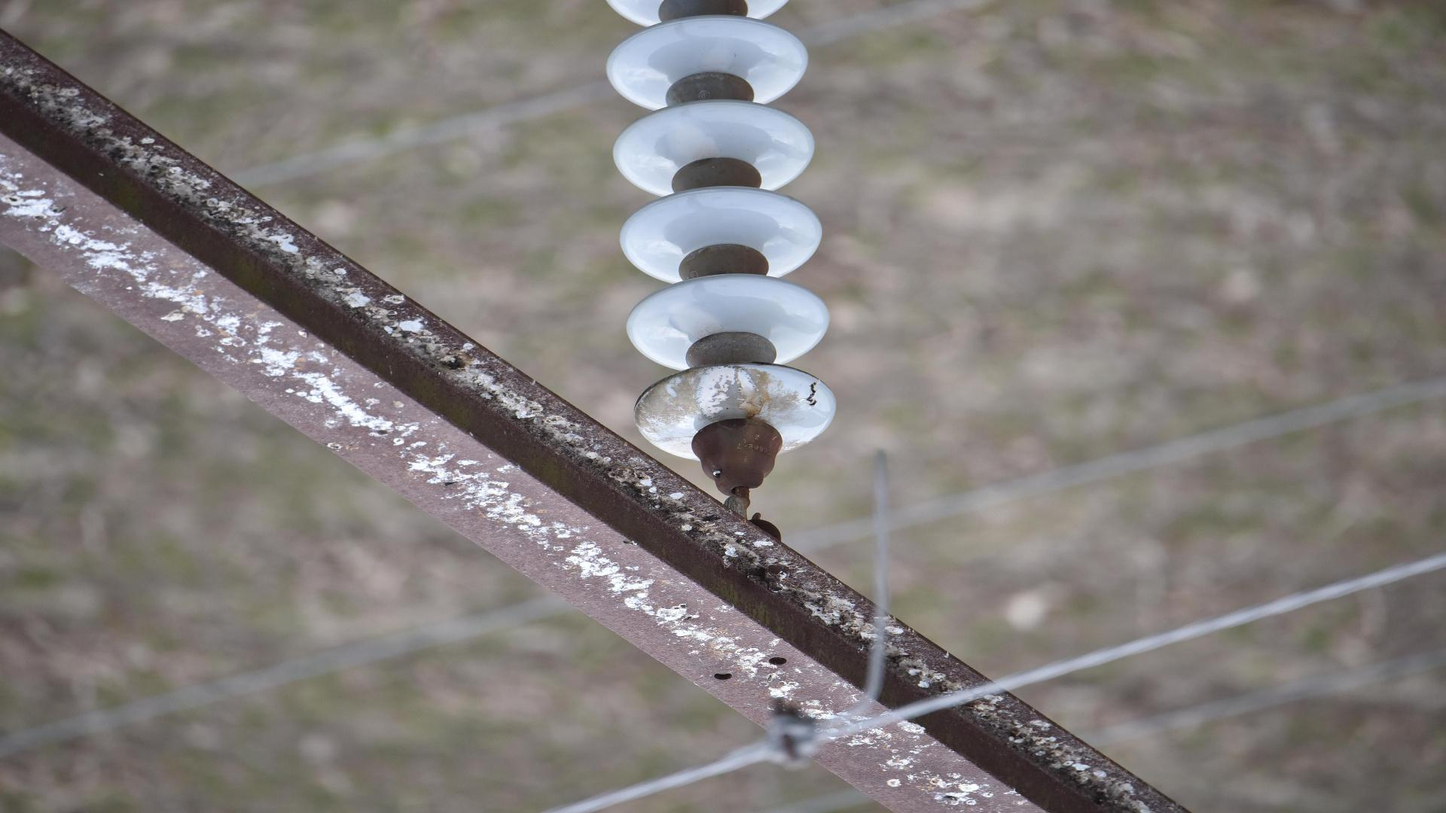insulator: (600, 1, 842, 466)
insulator_flashover: (693, 364, 765, 424)
